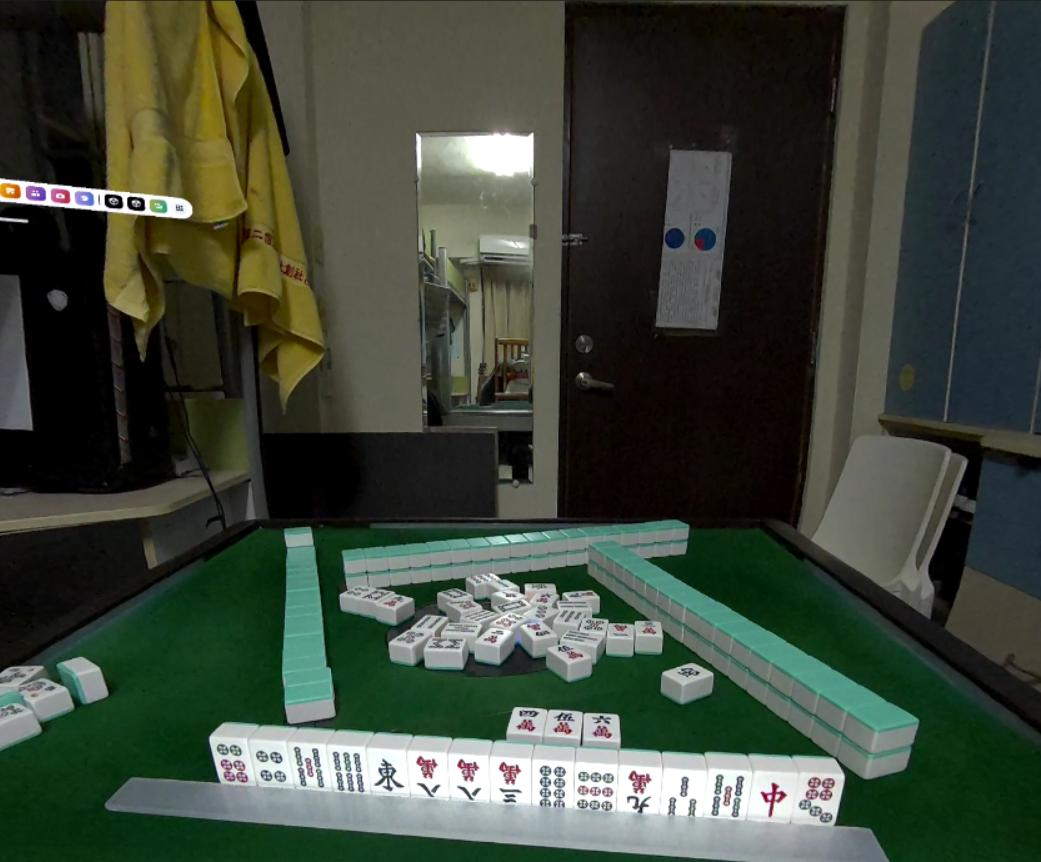mahjong: (286, 736, 337, 791), (706, 766, 751, 825), (794, 777, 842, 828), (327, 740, 369, 794), (574, 763, 614, 818), (534, 757, 575, 809), (621, 765, 659, 820), (667, 770, 703, 822), (254, 740, 291, 789), (491, 766, 535, 807), (757, 773, 792, 822), (406, 755, 445, 798), (369, 743, 401, 795), (211, 740, 250, 781), (453, 752, 485, 801)
